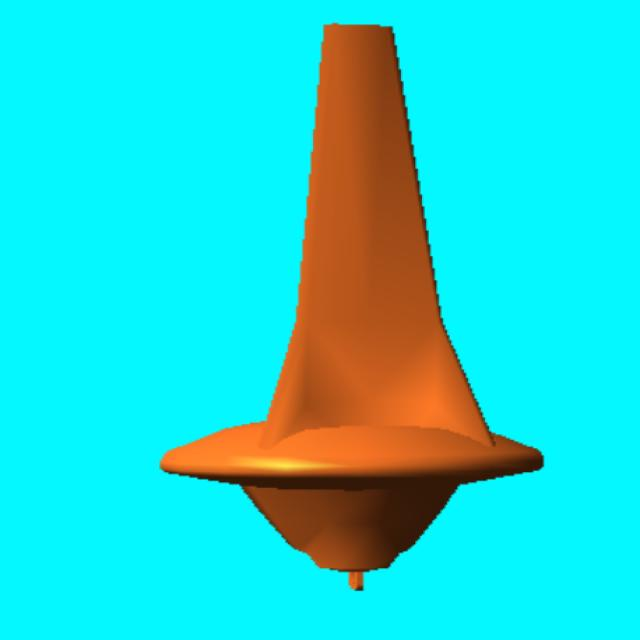OrangeBuoy: (159, 24, 546, 592)
